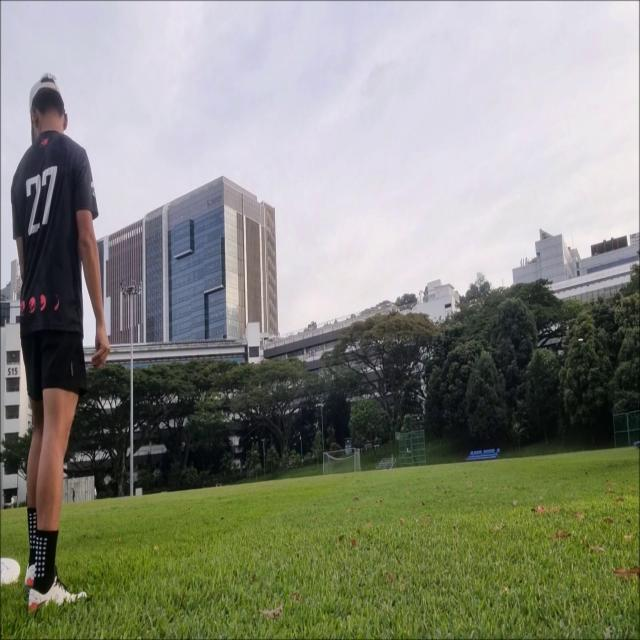disc: (578, 338, 583, 342)
